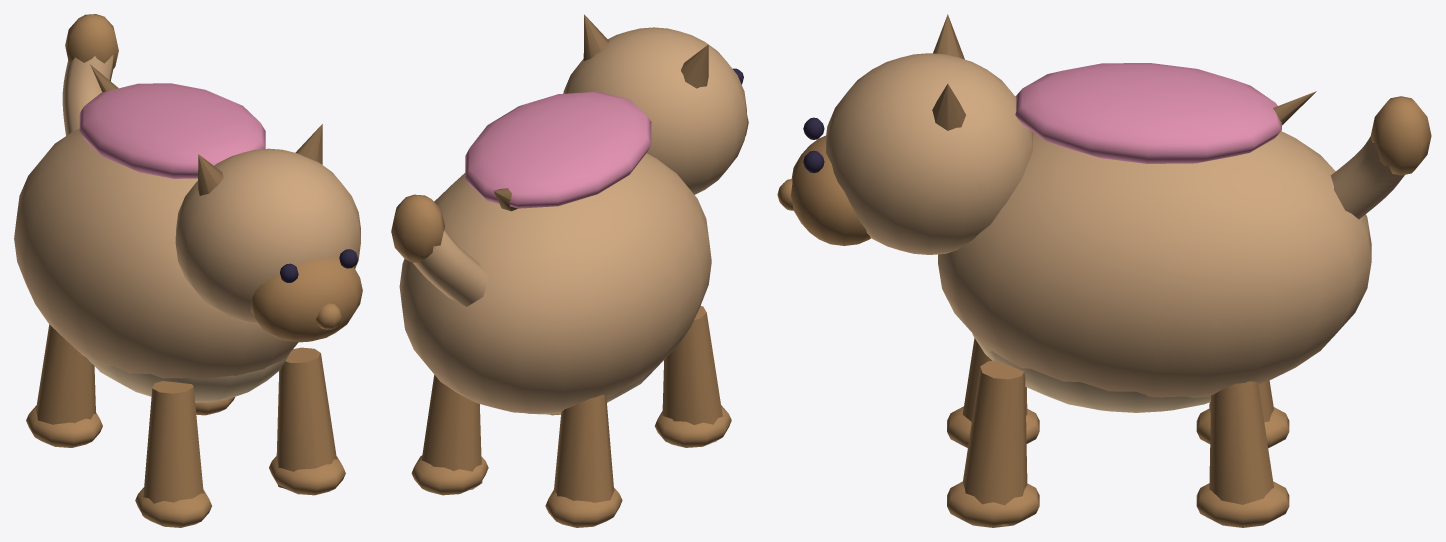
The model's file is mount.glb.
The picture shows the model from 3 angles, left to right: view 1: azimuth 30°, elevation 25°; view 2: azimuth 150°, elevation 25°; view 3: azimuth 270°, elevation 25°; orthographic projection. The views are drawn at different scales.
Visible parts, largest first — view 1: mount; view 2: mount; view 3: mount.
Boxes of the visible parts, <box> form: mount: <box>14,14,362,527</box>; mount: <box>391,14,748,527</box>; mount: <box>777,14,1431,527</box>.
Bounding box in the file's own units: 1 × 1.47 × 2.
